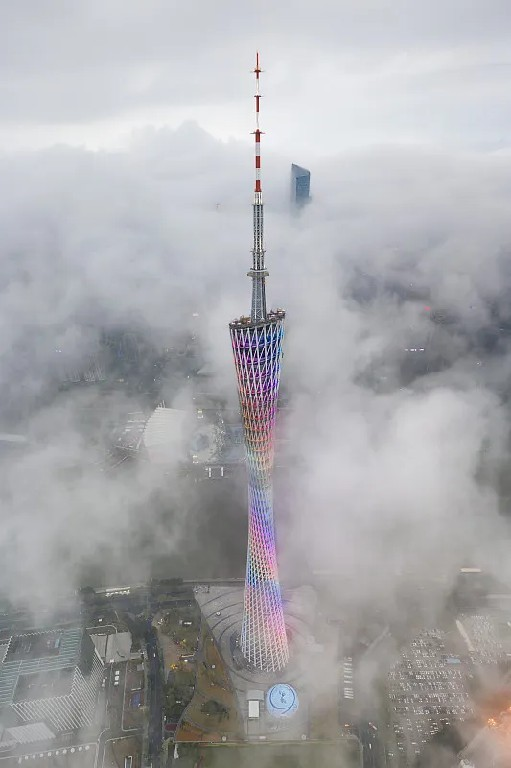Canton: (226, 42, 296, 672)
